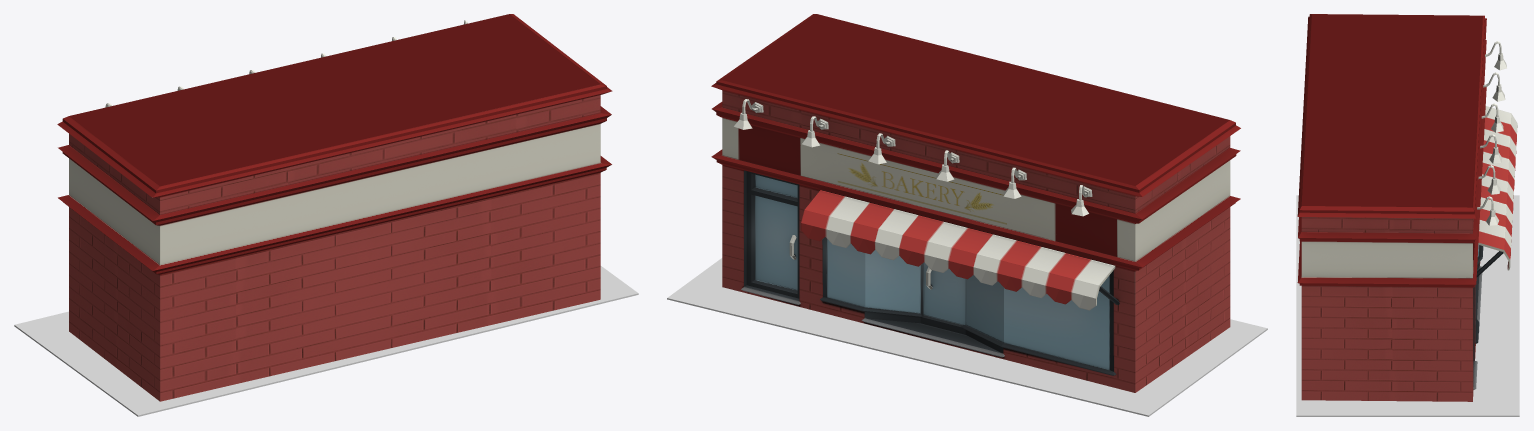
File: bakery3x7N.glb
3 views of the same model, side by side, from view 1: azimuth 30°, elevation 25°; view 2: azimuth 150°, elevation 25°; view 3: azimuth 270°, elevation 25° (orthographic). The views are drawn at different scales.
Visible parts, largest first — view 1: Bakery_mesh, Cube, Cube.001; view 2: Bakery_mesh, Cube, Cube.001; view 3: Bakery_mesh, Cube, Cube.001.
Part boxes in pixels (<box>): Bakery_mesh: <box>57,14,612,401</box>; Cube: <box>14,266,638,416</box>; Cube.001: <box>274,325,495,381</box>; Bakery_mesh: <box>711,14,1240,392</box>; Cube: <box>667,258,1267,416</box>; Cube.001: <box>805,314,1031,382</box>; Bakery_mesh: <box>1297,14,1517,401</box>; Cube: <box>1296,195,1519,416</box>; Cube.001: <box>1296,258,1519,352</box>.
Bounding box in the file's own units: 70 × 28.97 × 30.
4 materials, 1 textured.
